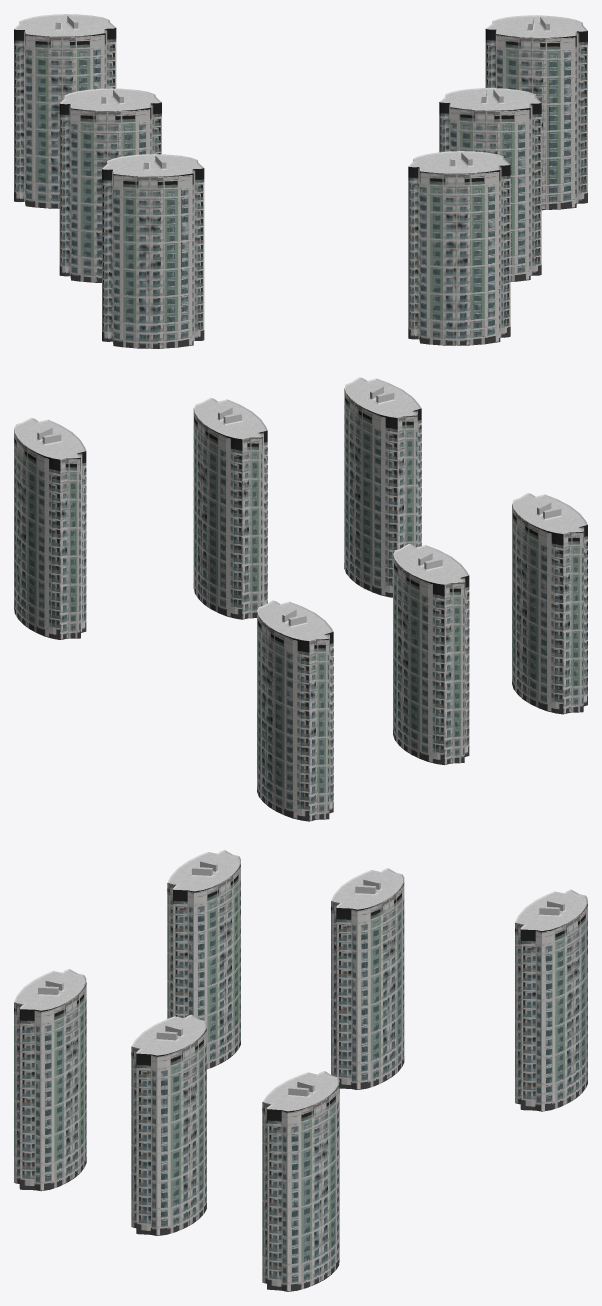
The model's file is xiaoqu5.gltf.
The picture shows the model from 3 angles, top to bottom: view 1: azimuth 30°, elevation 25°; view 2: azimuth 150°, elevation 25°; view 3: azimuth 270°, elevation 25°; orthographic projection. The views are drawn at different scales.
Parts seen in each view (by area): view 1: Line3117642, Line3117643, Line3117646, Line3117647, Line3117645, Line3117644; view 2: Line3117647, Line3117645, Line3117643, Line3117644, Line3117646, Line3117642; view 3: Line3117646, Line3117644, Line3117645, Line3117647, Line3117642, Line3117643.
Boxes of the visible parts, bbox=[...] form: Line3117642: bbox=[408, 151, 510, 345]; Line3117643: bbox=[102, 154, 204, 348]; Line3117646: bbox=[485, 15, 587, 210]; Line3117647: bbox=[14, 14, 116, 208]; Line3117645: bbox=[59, 88, 161, 282]; Line3117644: bbox=[439, 88, 541, 281]; Line3117647: bbox=[257, 600, 333, 821]; Line3117645: bbox=[393, 544, 469, 765]; Line3117643: bbox=[512, 493, 587, 714]; Line3117644: bbox=[193, 398, 267, 619]; Line3117646: bbox=[14, 418, 86, 639]; Line3117642: bbox=[344, 377, 421, 597]; Line3117646: bbox=[262, 1071, 339, 1291]; Line3117644: bbox=[131, 1014, 206, 1235]; Line3117645: bbox=[331, 868, 404, 1089]; Line3117647: bbox=[515, 889, 587, 1111]; Line3117642: bbox=[14, 969, 86, 1191]; Line3117643: bbox=[167, 850, 240, 1069].
Size of the model in its own units: 1235 by 412 by 1146.
Materials: 12 (12 with a texture image).
